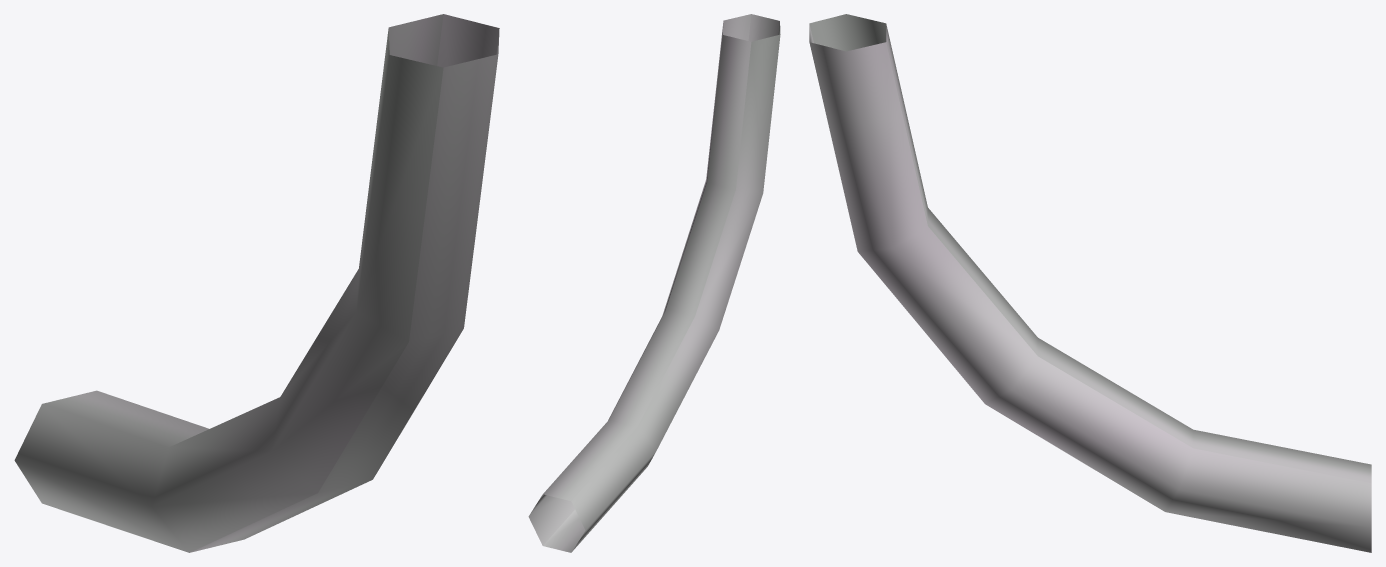
The model's file is cable_bend_tiny.dae.
3 renders of one model, left to right at view 1: azimuth 30°, elevation 25°; view 2: azimuth 150°, elevation 25°; view 3: azimuth 270°, elevation 25°, orthographic. The views are drawn at different scales.
Visible parts, largest first — view 1: Mesh; view 2: Mesh; view 3: Mesh.
Boxes of the visible parts, x1,y1,x2,y2 form: Mesh: (14,14,499,552); Mesh: (528,14,780,552); Mesh: (809,14,1371,552).
Size of the model in its own units: 0.0169 by 0.1073 by 0.107.
